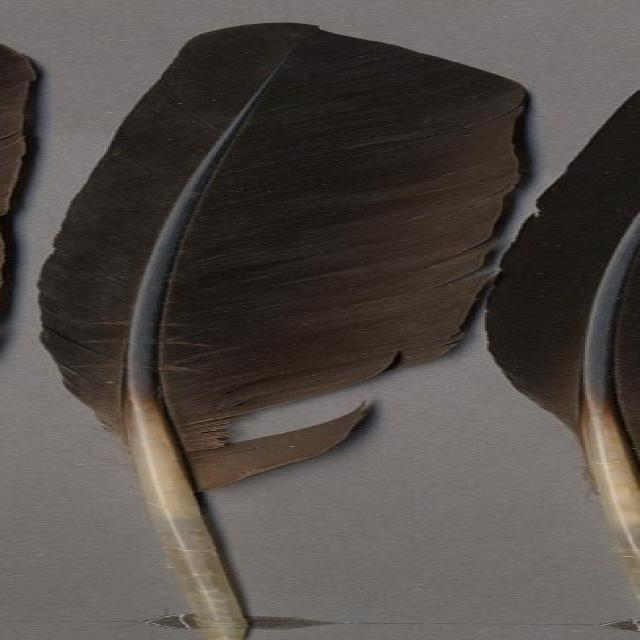feather: (33, 17, 576, 640)
